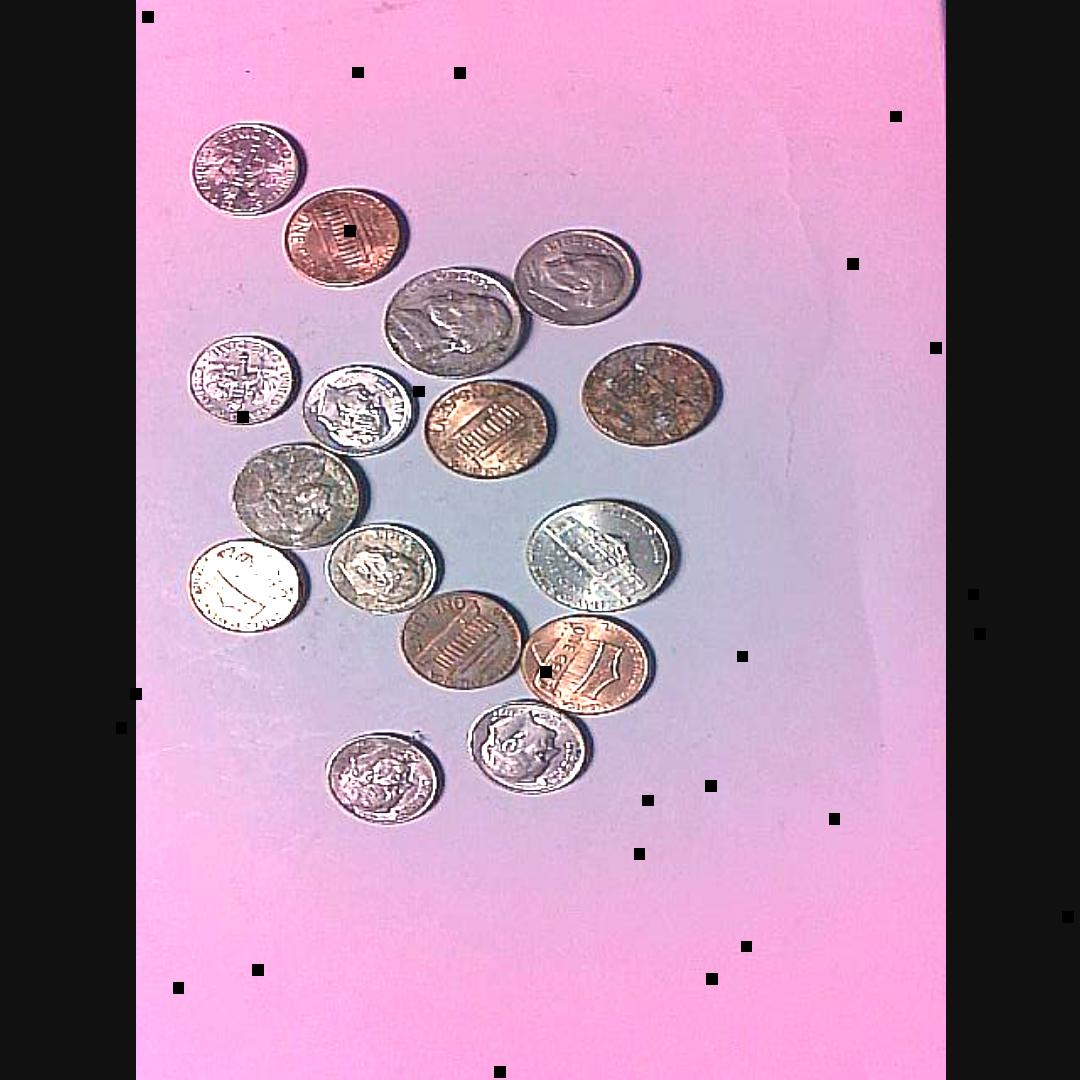Dime: (515, 230, 636, 324), (476, 699, 594, 793), (329, 732, 442, 827), (189, 123, 302, 216), (186, 332, 297, 425), (305, 361, 410, 452), (329, 525, 432, 614)
Nickel: (528, 496, 677, 613), (385, 263, 528, 376), (230, 440, 371, 552)
Penny: (582, 343, 721, 447), (520, 613, 653, 717), (280, 186, 407, 287), (424, 380, 550, 479), (184, 537, 310, 636)
